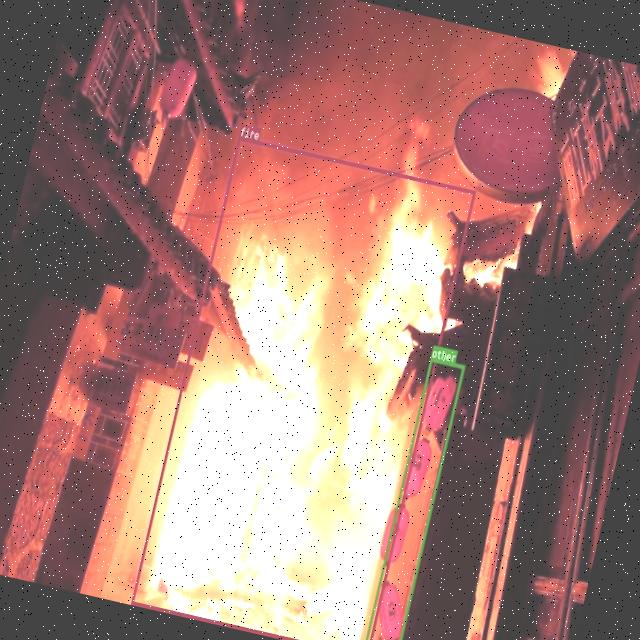fire: (130, 135, 475, 640)
